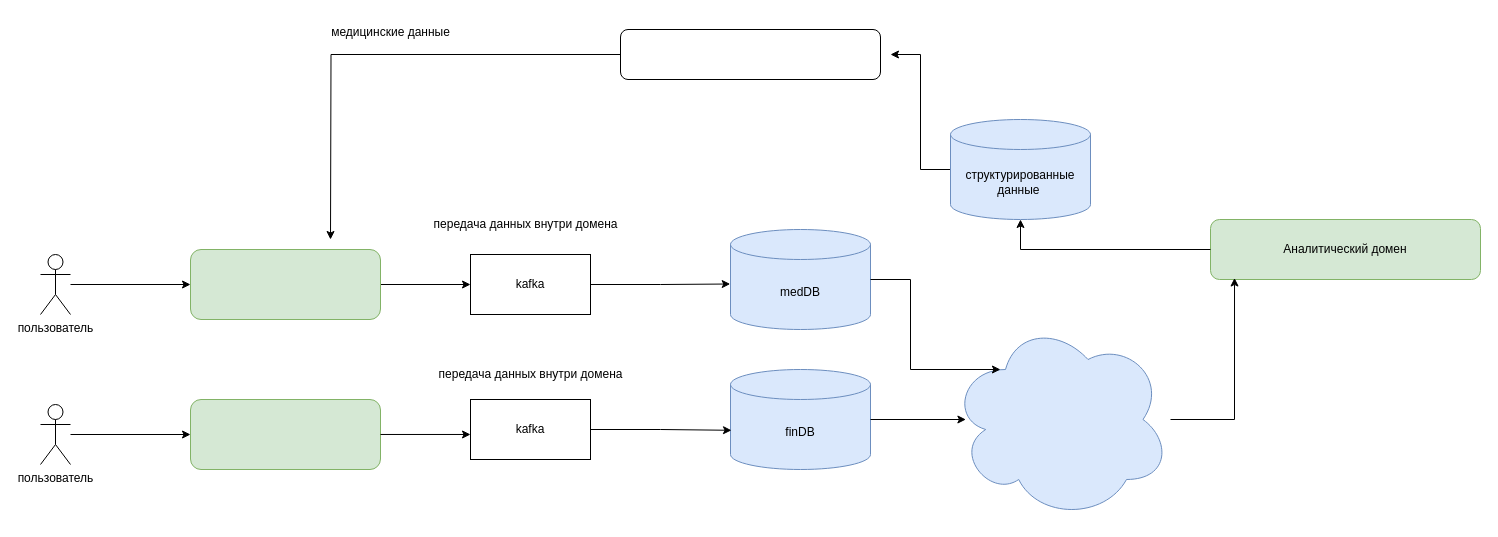
The diagram is 1498 pixels wide and 537 high, and some of its shapes have lost their labels. Here are the shapes that lost their labels. From the top down, the centre of each, then its label:
At point 750,54: "ИИ-сервисы для работы с медицинскими данными".
At point 285,284: "Медицинский домен".
At point 285,434: "Финансовый домен".
At point 1060,419: "s3".
